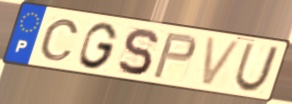C: (38, 17, 81, 62)
G: (77, 21, 120, 71)
P: (150, 31, 199, 80)
S: (116, 26, 160, 77)
U: (232, 42, 282, 95)
V: (199, 34, 245, 88)
